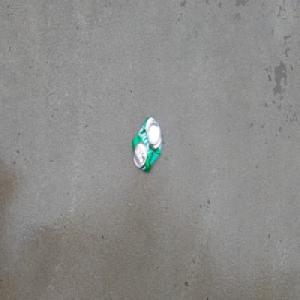SodaCan: (131, 114, 163, 174)
